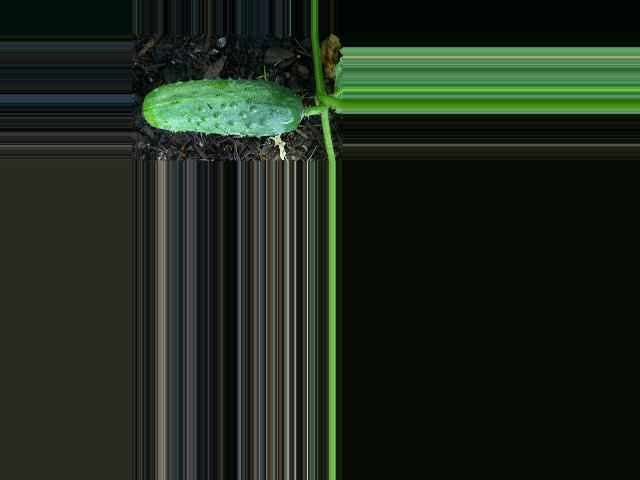cucumber: (140, 78, 302, 136)
